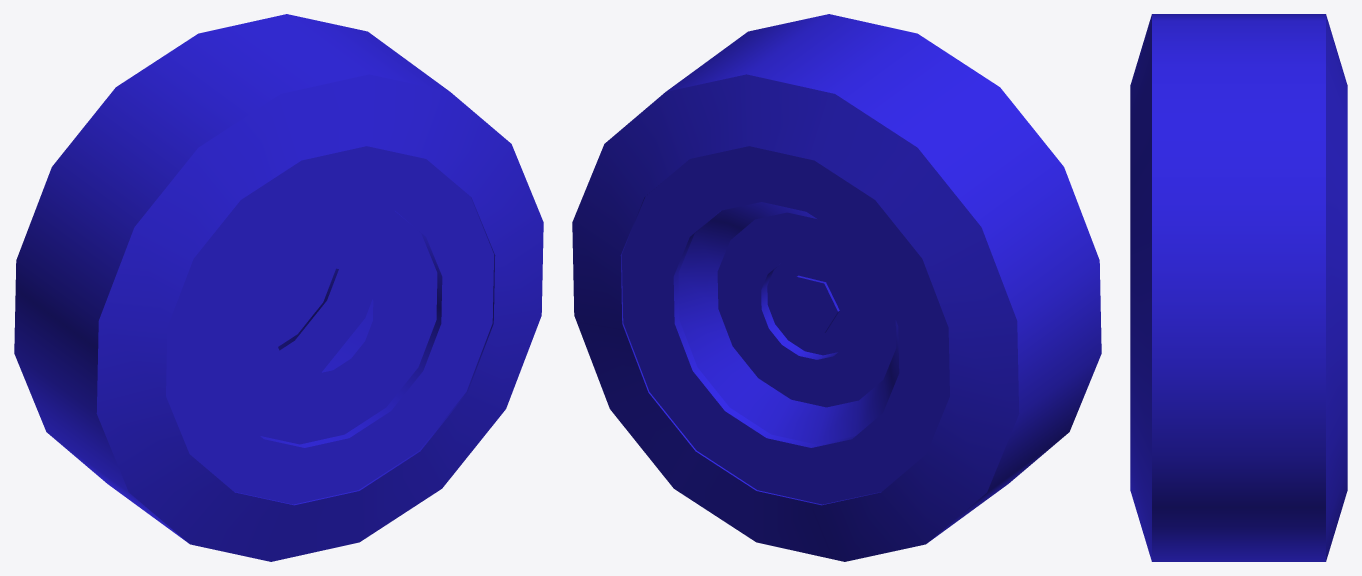
Rendered from Train_Wheel_Mesh.fbx.
The picture shows the model from 3 angles, left to right: view 1: azimuth 30°, elevation 25°; view 2: azimuth 150°, elevation 25°; view 3: azimuth 270°, elevation 25°; orthographic projection. The views are drawn at different scales.
Visible parts, largest first — view 1: TC_FL_Wheel.001; view 2: TC_FL_Wheel.001; view 3: TC_FL_Wheel.001.
Boxes of the visible parts, bbox=[...] form: TC_FL_Wheel.001: bbox=[14, 14, 543, 561]; TC_FL_Wheel.001: bbox=[572, 14, 1101, 561]; TC_FL_Wheel.001: bbox=[1130, 14, 1347, 561].
Size of the model in its own units: 24.48 by 61.25 by 61.25.
